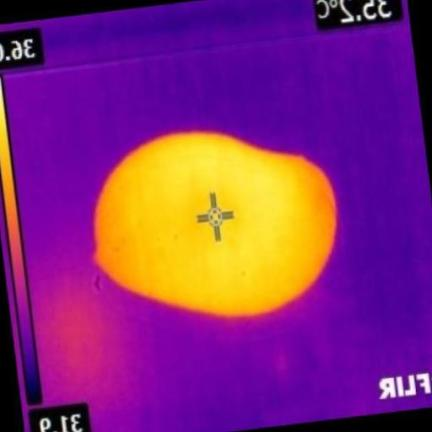mango: (95, 133, 337, 315)
